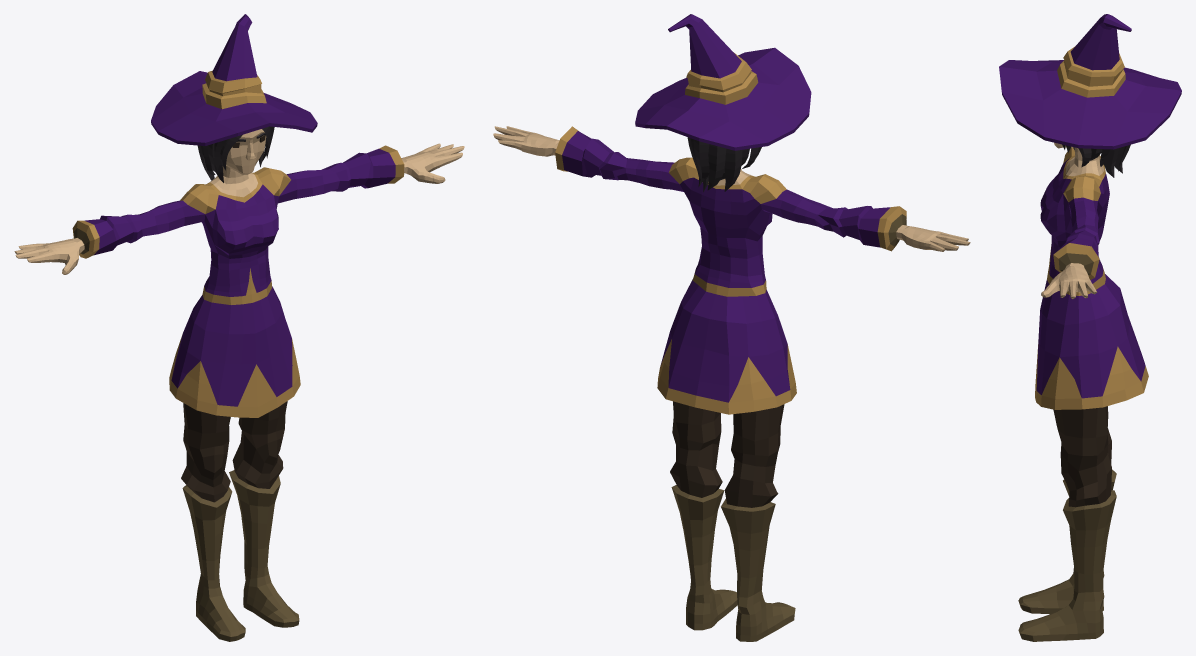
File: witch.glb
The picture shows the model from 3 angles, left to right: view 1: azimuth 30°, elevation 25°; view 2: azimuth 150°, elevation 25°; view 3: azimuth 270°, elevation 25°; orthographic projection. The views are drawn at different scales.
Parts seen in each view (by area): view 1: Witch_Body_38e430, Witch_Legs_3b5156, Witch_Feet, Witch_Head_61bef6, Witch_Legs_041dd6, Witch_Body_d8912b, Witch_Legs_d93f80, Witch_Body_8bef28, Witch_Head_b4ef12, Witch_Head_b5c85f, Witch_Head_1080e1; view 2: Witch_Body_38e430, Witch_Head_61bef6, Witch_Legs_3b5156, Witch_Feet, Witch_Legs_041dd6, Witch_Legs_d93f80, Witch_Body_8bef28, Witch_Body_d8912b, Witch_Head_b5c85f, Witch_Head_b4ef12; view 3: Witch_Head_61bef6, Witch_Legs_3b5156, Witch_Feet, Witch_Legs_041dd6, Witch_Body_38e430, Witch_Legs_d93f80, Witch_Head_b4ef12, Witch_Body_8bef28, Witch_Body_d8912b, Witch_Head_b5c85f, Witch_Body_2111a1.
Boxes of the visible parts, left/top/right/bottom form: Witch_Body_38e430: left=84, top=148, right=395, bottom=296; Witch_Legs_3b5156: left=171, top=286, right=292, bottom=406; Witch_Feet: left=182, top=470, right=299, bottom=641; Witch_Head_61bef6: left=151, top=14, right=317, bottom=145; Witch_Legs_041dd6: left=181, top=401, right=287, bottom=502; Witch_Body_d8912b: left=14, top=143, right=464, bottom=274; Witch_Legs_d93f80: left=169, top=335, right=300, bottom=417; Witch_Body_8bef28: left=72, top=145, right=404, bottom=304; Witch_Head_b4ef12: left=202, top=70, right=266, bottom=109; Witch_Head_b5c85f: left=197, top=126, right=274, bottom=182; Witch_Head_1080e1: left=222, top=129, right=266, bottom=177; Witch_Body_38e430: left=562, top=131, right=890, bottom=287; Witch_Head_61bef6: left=635, top=14, right=811, bottom=150; Witch_Legs_3b5156: left=660, top=279, right=790, bottom=402; Witch_Feet: left=671, top=485, right=795, bottom=641; Witch_Legs_041dd6: left=670, top=401, right=784, bottom=507; Witch_Legs_d93f80: left=657, top=339, right=796, bottom=414; Witch_Body_8bef28: left=555, top=126, right=906, bottom=296; Witch_Body_d8912b: left=493, top=126, right=970, bottom=251; Witch_Head_b5c85f: left=687, top=137, right=761, bottom=192; Witch_Head_b4ef12: left=685, top=52, right=758, bottom=104; Witch_Head_61bef6: left=999, top=14, right=1181, bottom=149; Witch_Legs_3b5156: left=1036, top=274, right=1145, bottom=398; Witch_Feet: left=1018, top=469, right=1116, bottom=641; Witch_Legs_041dd6: left=1053, top=406, right=1111, bottom=507; Witch_Body_38e430: left=1040, top=158, right=1109, bottom=283; Witch_Legs_d93f80: left=1035, top=344, right=1148, bottom=409; Witch_Head_b4ef12: left=1057, top=46, right=1125, bottom=97; Witch_Body_8bef28: left=1047, top=147, right=1105, bottom=295; Witch_Body_d8912b: left=1041, top=156, right=1104, bottom=298; Witch_Head_b5c85f: left=1062, top=144, right=1130, bottom=177; Witch_Body_2111a1: left=1058, top=253, right=1093, bottom=275.
Bounding box in the file's own units: 1.45 × 1.8 × 0.4825.
